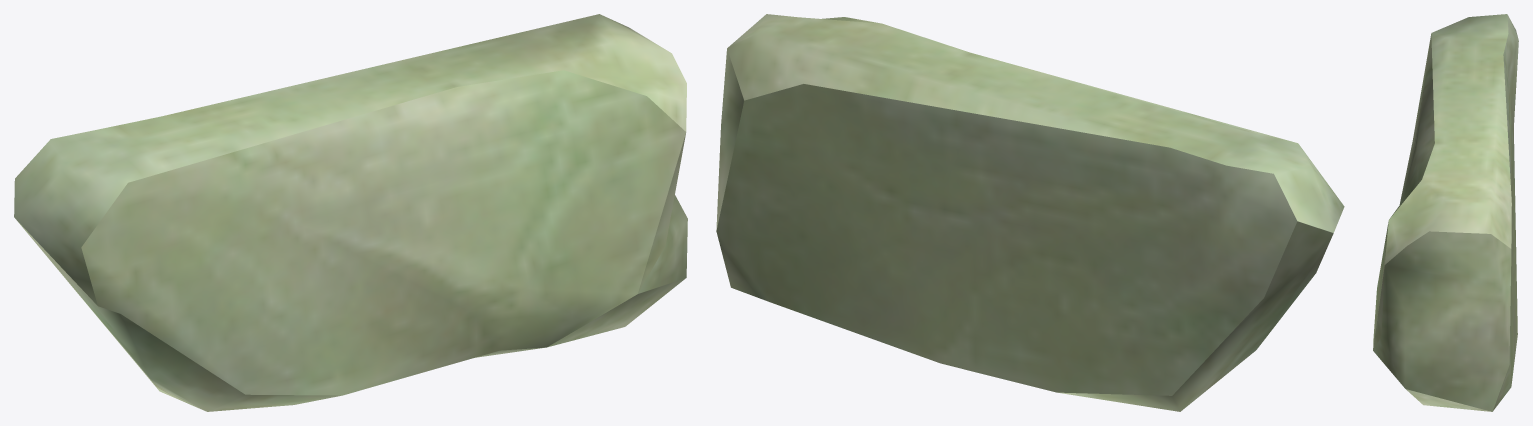
File: Ruins_Trim_Base_DMG_Rubble_D.fbx
3 views of the same model, side by side, from view 1: azimuth 30°, elevation 25°; view 2: azimuth 150°, elevation 25°; view 3: azimuth 270°, elevation 25° (orthographic). The views are drawn at different scales.
Visible parts, largest first — view 1: Ruins_Trim_Base_DMG_Rubble_D; view 2: Ruins_Trim_Base_DMG_Rubble_D; view 3: Ruins_Trim_Base_DMG_Rubble_D.
Boxes of the visible parts, x1=… form: Ruins_Trim_Base_DMG_Rubble_D: x1=14, y1=14, x2=687, y2=411; Ruins_Trim_Base_DMG_Rubble_D: x1=716, y1=14, x2=1344, y2=411; Ruins_Trim_Base_DMG_Rubble_D: x1=1373, y1=14, x2=1518, y2=411.
Bounding box in the file's own units: 184 × 79.83 × 50.6.
